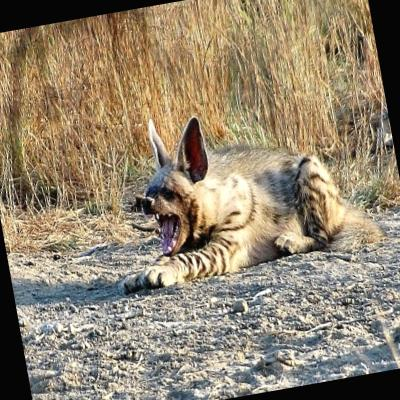hyenas: (36, 72, 382, 320)
